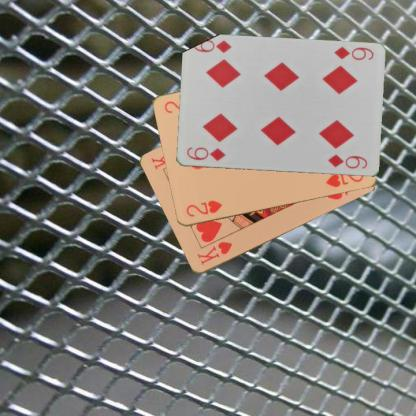2h: (183, 198, 223, 218)
6d: (331, 44, 374, 62), (184, 145, 226, 163)
Kh: (194, 239, 234, 266)
